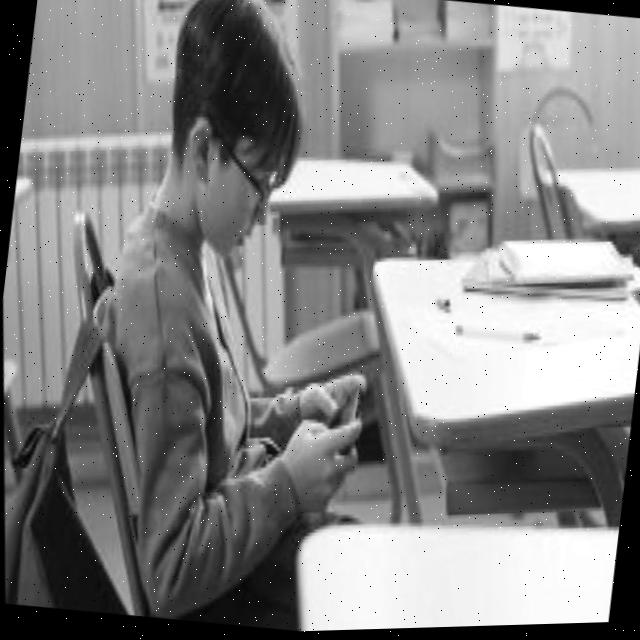phone: (317, 382, 366, 464)
